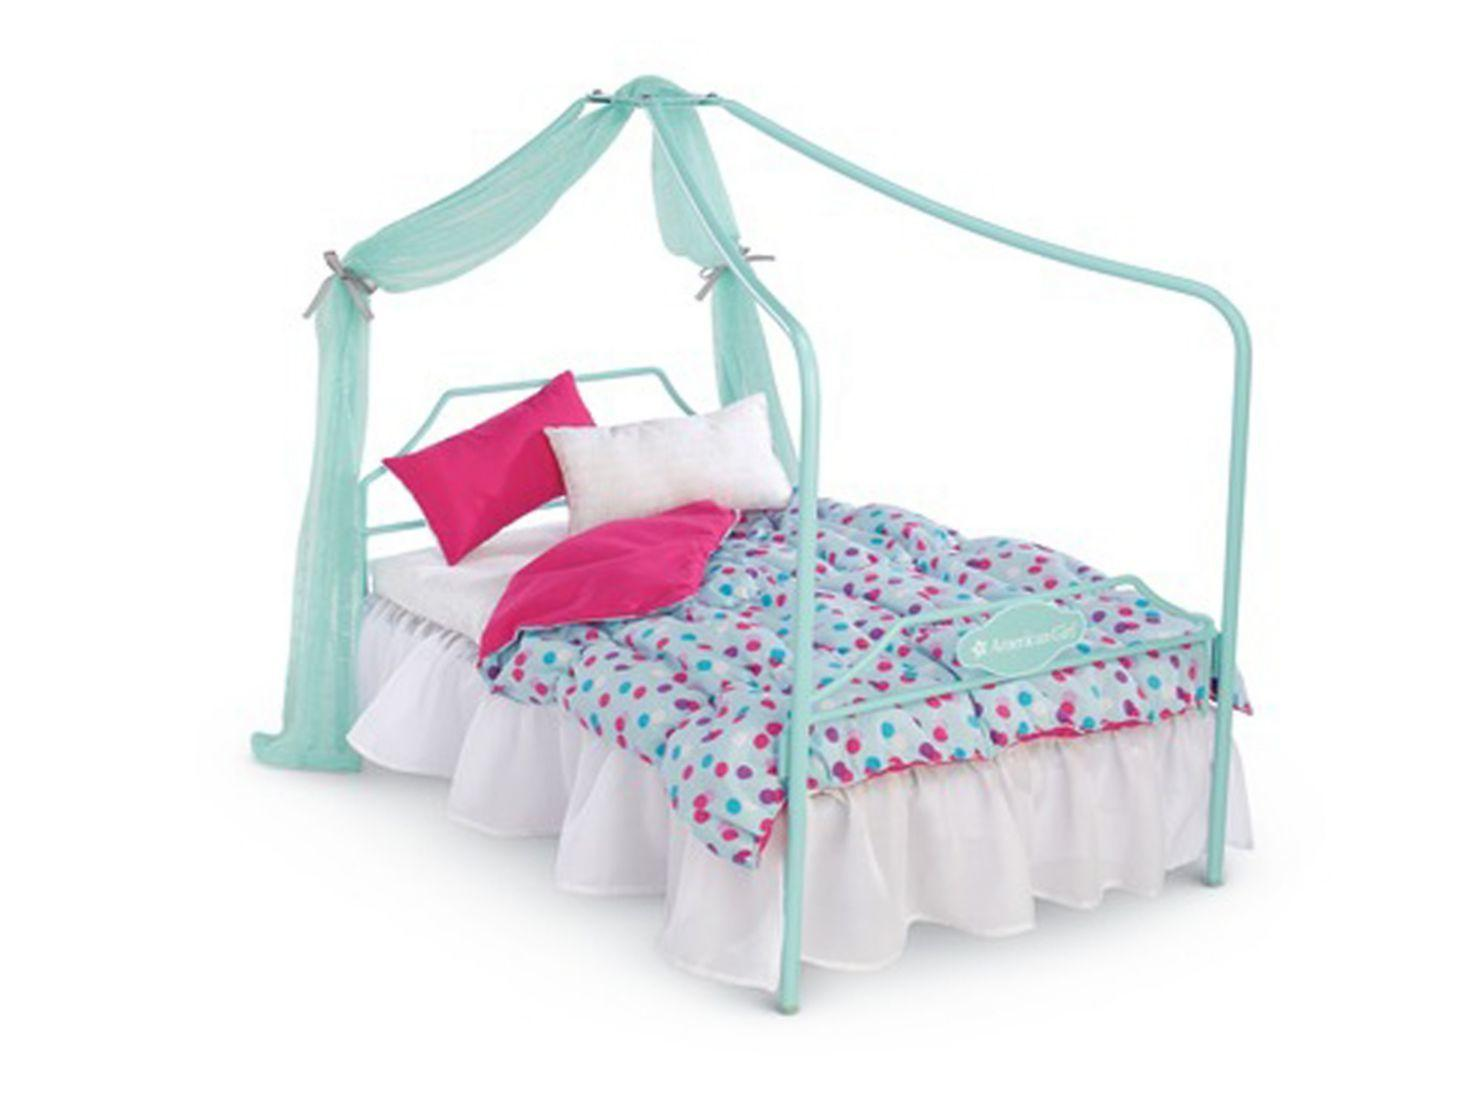bed: (307, 286, 1190, 947)
